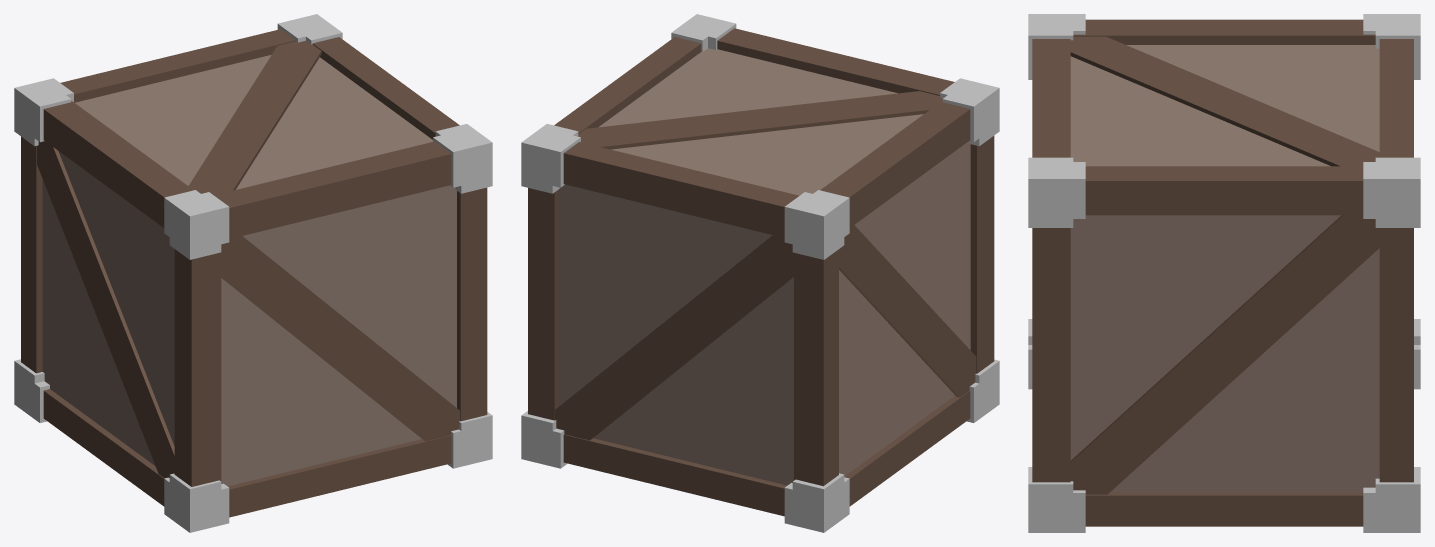
The model's file is CaixacomFerro.fbx.
3 views of the same model, side by side, from view 1: azimuth 30°, elevation 25°; view 2: azimuth 150°, elevation 25°; view 3: azimuth 270°, elevation 25° (orthographic). The views are drawn at different scales.
Parts seen in each view (by area): view 1: polySurface10, polySurface11, pCube52; view 2: polySurface10, polySurface11, pCube52; view 3: polySurface10, polySurface11, pCube52.
Boxes of the visible parts, x1,y1,x2,y2 form: polySurface10: [21, 29, 487, 517]; polySurface11: [37, 40, 459, 478]; pCube52: [14, 14, 492, 532]; polySurface10: [528, 28, 994, 516]; polySurface11: [555, 91, 976, 440]; pCube52: [521, 14, 999, 532]; polySurface10: [1032, 19, 1413, 526]; polySurface11: [1070, 36, 1379, 494]; pCube52: [1028, 14, 1420, 532].
Bounding box in the file's own units: 102 × 102 × 103.
